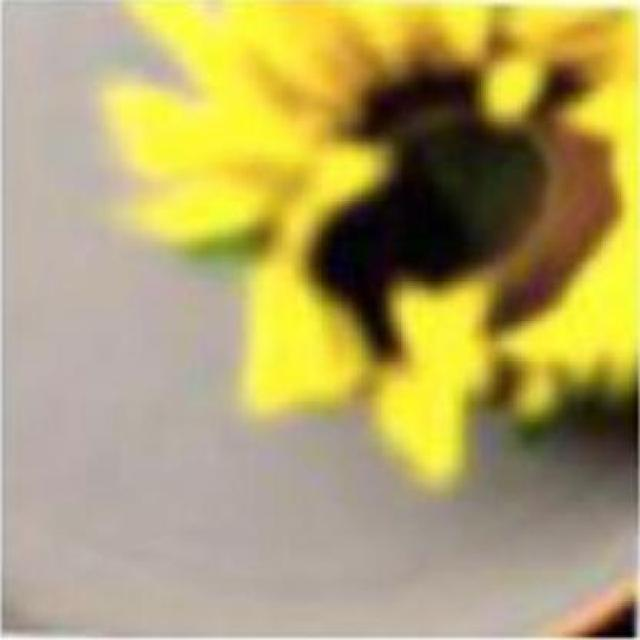sunflower: (104, 0, 640, 494)
